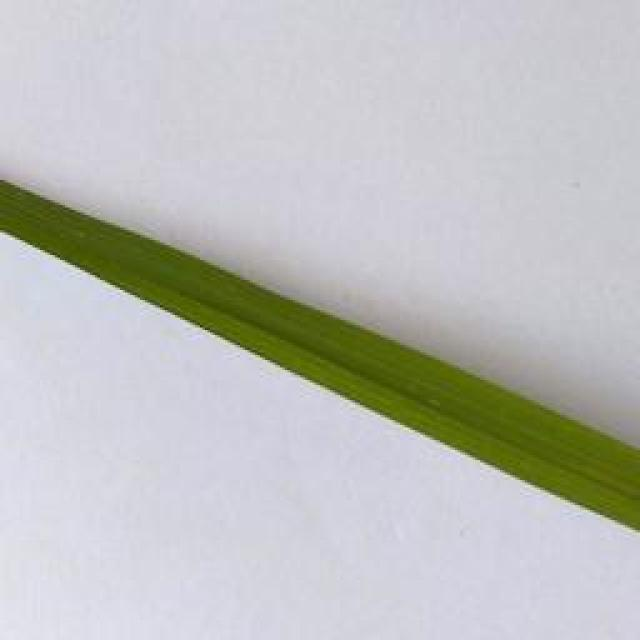Healthy-Plant: (0, 177, 640, 531)
